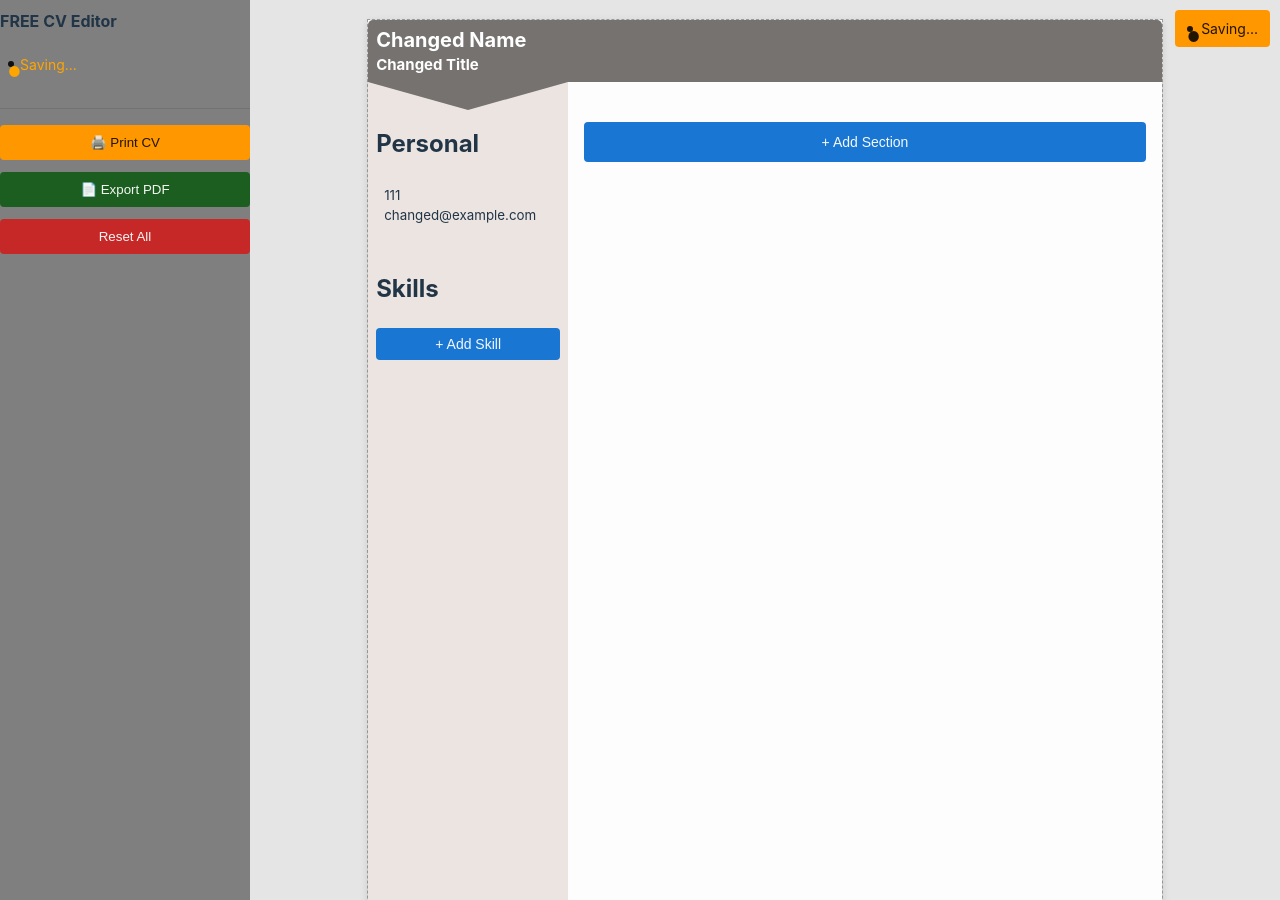
Scenario: App reset flow › removes only the app cv-data entry from localStorage
Check: the heading "Changed Name" is shown, box x1=376 y1=28 x2=526 y2=52
What coordinates should you click on to do the following:
click the button "Reset All"
I would click on:
 (125, 237)
Its box is x1=0 y1=219 x2=250 y2=254.
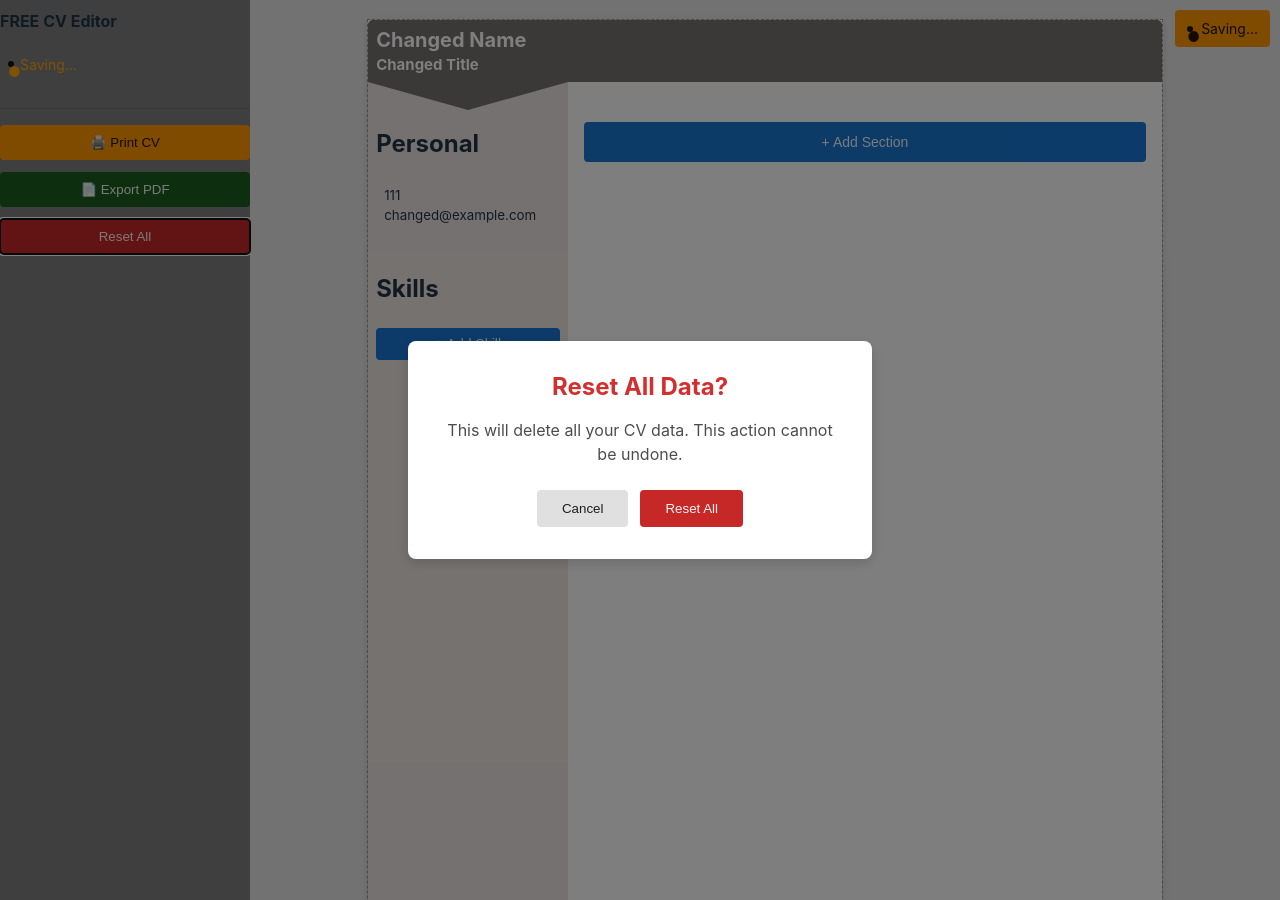
What coordinates should you click on to do the following:
click the button "Reset All"
I would click on:
 (692, 508)
Its box is x1=640 y1=490 x2=743 y2=527.
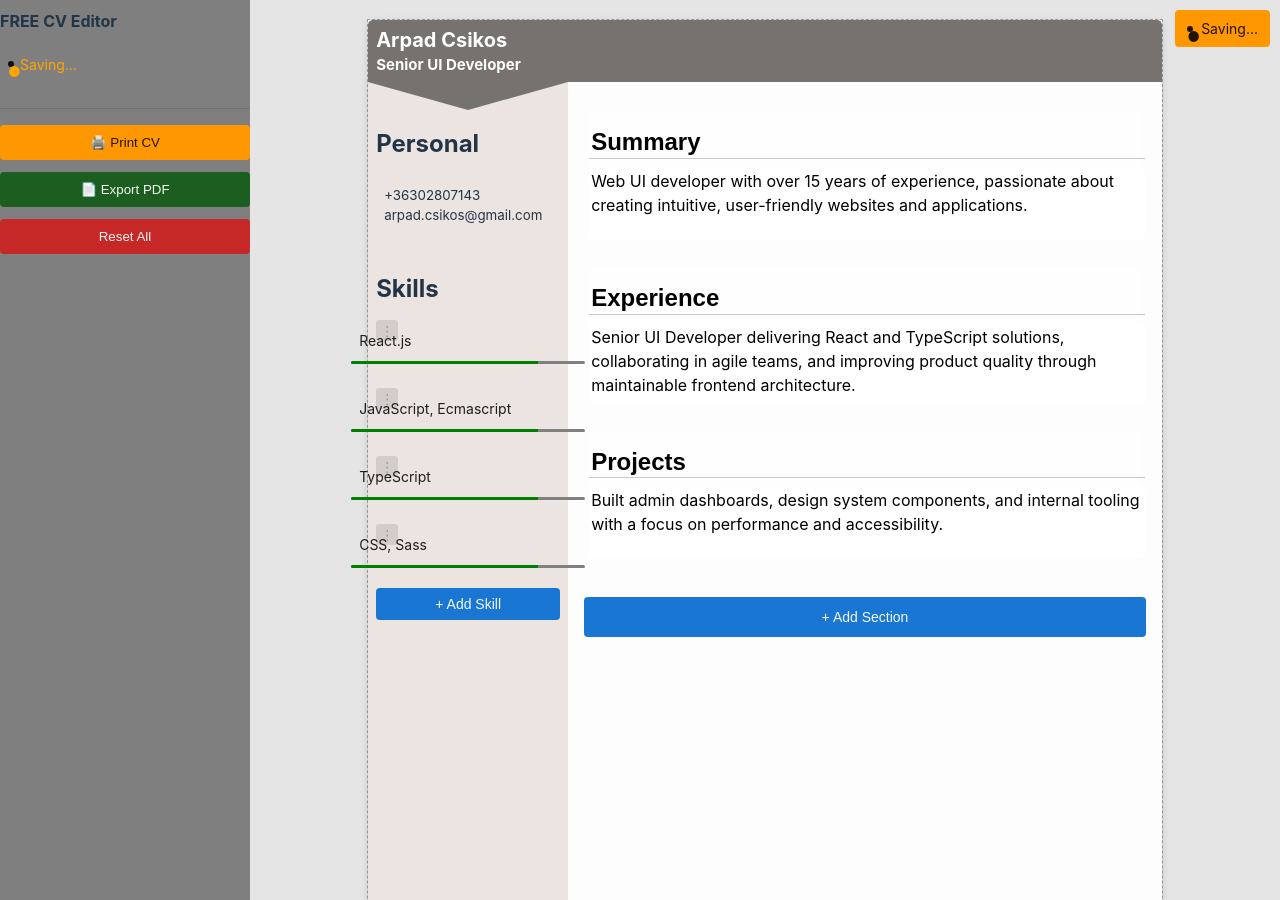
Check: the heading "Arpad Csikos" is shown, box x1=376 y1=28 x2=507 y2=52
